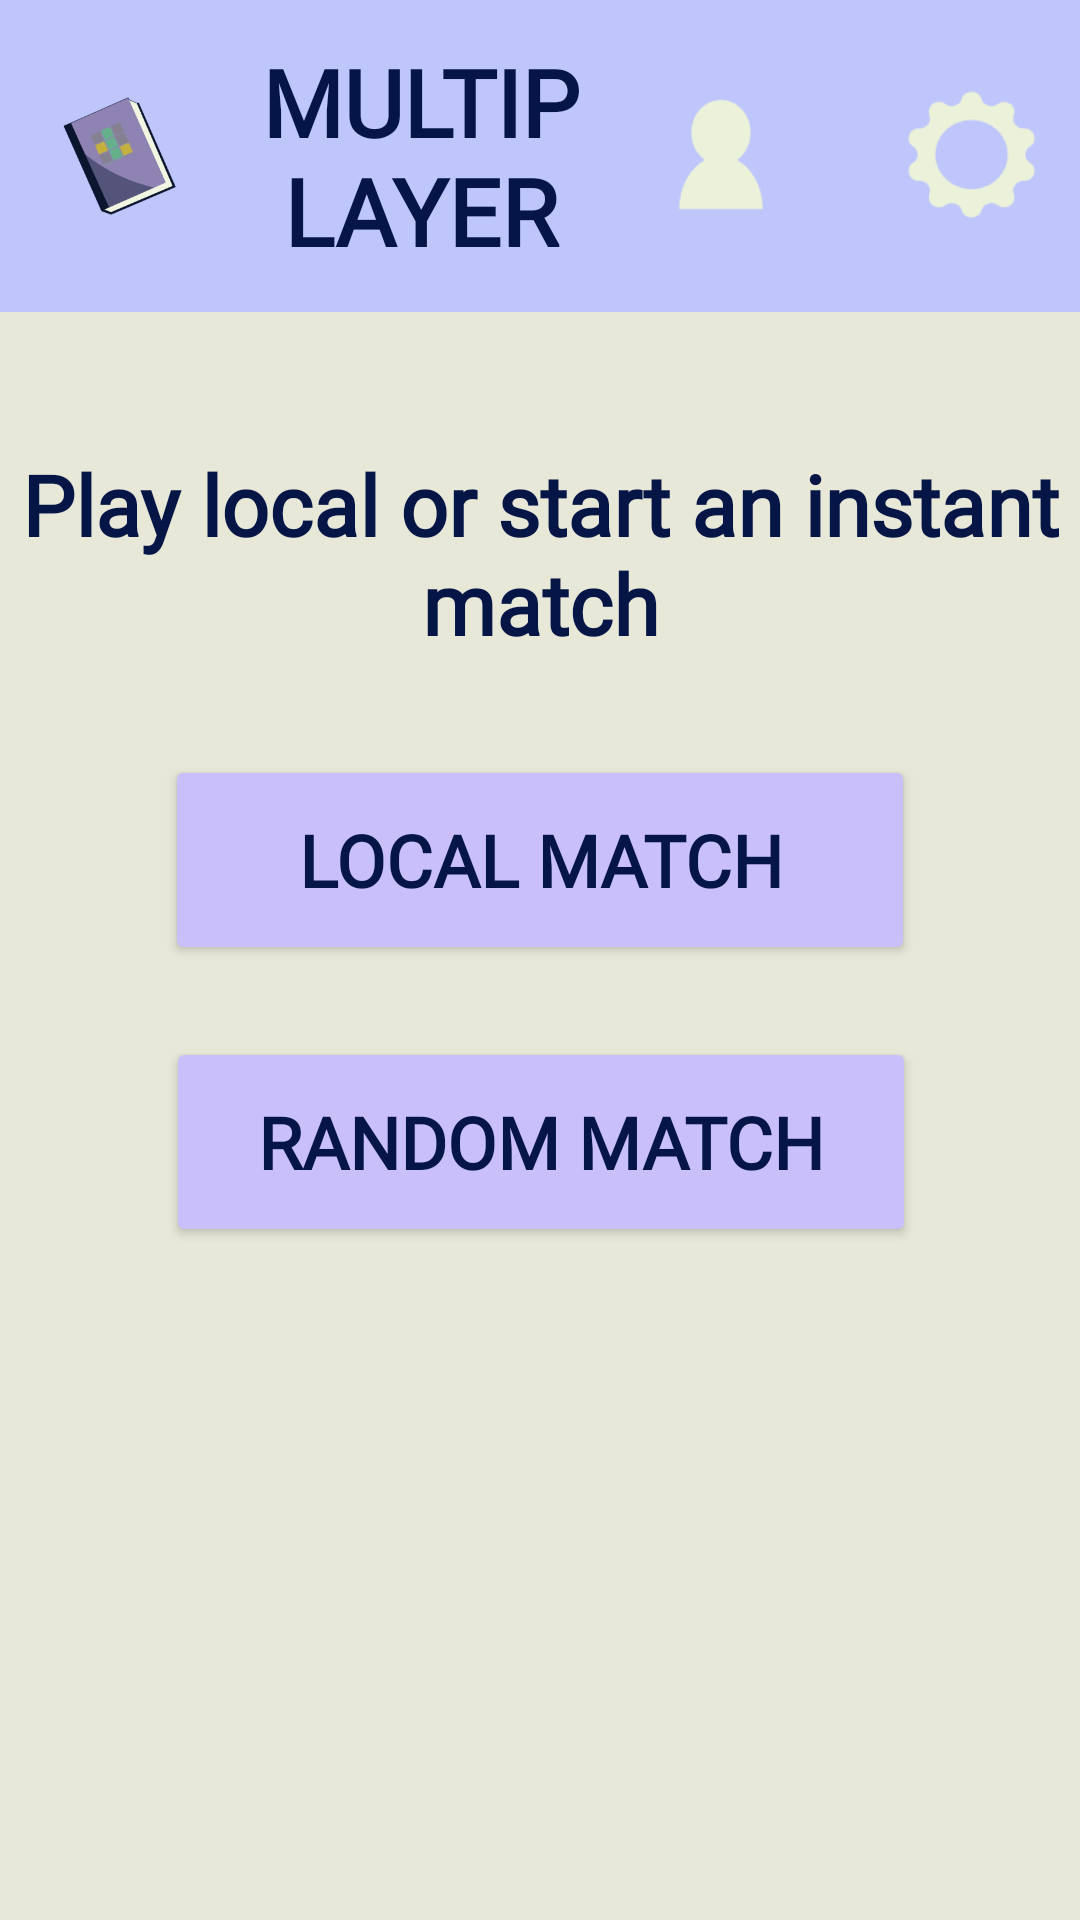

Icons on this 1080w x 1920h Android screen, each with the point to tap as point (x, y):
profile: point (721, 154)
settings: point (971, 154)
